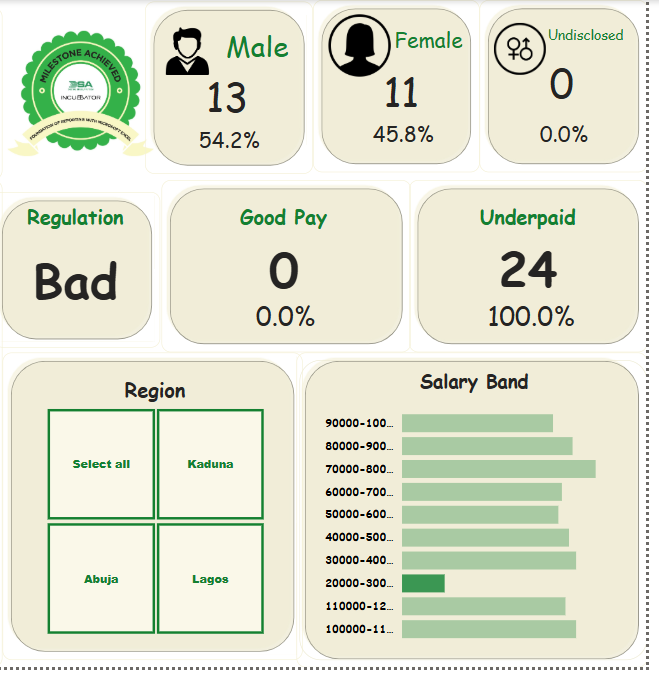

This screenshot's page, from the dashboard's own definition file:
{"tool":"powerbi","page":{"name":"🏡  Home","canvas":[1280,720],"ordinal":0},"visuals":[{"type":"shape","box":[0,8.1,278.5,712.5],"z":0},{"type":"shape","box":[278.5,8.1,306,186.2],"z":1000},{"type":"textbox","box":[289.8,53.4,283.4,152.2],"z":2000},{"type":"image","box":[0,35.6,278.5,93.9],"z":3000},{"type":"shape","box":[393.5,21,76.1,66.4],"z":4000},{"type":"shape","box":[416.1,35.6,32.4,38.9],"z":5000},{"type":"image","box":[584.5,14.6,168.4,173.3],"z":6000},{"type":"shape","box":[738.4,1.6,181.4,186.2],"z":7000},{"type":"shape","box":[919.7,0,179.7,186.2],"z":8000},{"type":"shape","box":[1099.5,0,181.4,186.2],"z":9000},{"type":"shape","box":[278.5,194.3,306,526.2],"z":10000},{"type":"shape","box":[291.5,445.3,283.4,24.3],"z":11000},{"type":"pageNavigator","box":[37.2,325.5,181.4,343.3],"z":12000},{"type":"card","title":"Male","fields":{"Values":["Palmoria Group emp-data (1).Male"]},"box":[754.6,27.5,149,108.5],"z":13000},{"type":"card","fields":{"Values":["Palmoria Group emp-data (1).% Male"]},"box":[782.1,129.5,93.9,45.3],"z":14000},{"type":"image","box":[738.4,24.3,90.7,61.5],"z":15000},{"type":"card","title":"Female","fields":{"Values":["Palmoria Group emp-data (1).Female"]},"box":[942.4,27.5,149,108.5],"z":16000},{"type":"card","fields":{"Values":["Palmoria Group emp-data (1).% Female"]},"box":[970.2,122.3,93.9,45.3],"z":17000},{"type":"image","box":[931.1,8.1,77.7,82.6],"z":18000},{"type":"card","title":"Undisclosed","fields":{"Values":["Palmoria Group emp-data (1).Undisclosed"]},"box":[1115.6,21,149,108.5],"z":19000},{"type":"card","fields":{"Values":["Palmoria Group emp-data (1).% Undisclosed"]},"box":[1143.2,123.1,93.9,45.3],"z":20000},{"type":"image","box":[1089.7,19.4,106.9,66.4],"z":21000},{"type":"barChart","title":"Employee by Region","fields":{"Category":["Palmoria Group emp-data (1).Location"],"Y":["Palmoria Group emp-data (1).Total Emp"]},"box":[286.6,205.6,293.1,239.6],"z":22000},{"type":"columnChart","title":"Employee by Deoartment","fields":{"Category":["Palmoria Group emp-data (1).Department"],"Y":["Palmoria Group emp-data (1).Total Emp"]},"box":[287.6,453.7,277.5,267.3],"z":23000},{"type":"shape","box":[581.3,194.4,338.2,263.3],"z":24000},{"type":"columnChart","title":"Job Rating","fields":{"Category":["Palmoria Group emp-data (1).Rating"],"Y":["Palmoria Group emp-data (1).Total Emp"]},"box":[597.5,204.6,334.2,263.3],"z":25000},{"type":"shape","box":[581.3,453.4,338.4,267.2],"z":26000},{"type":"shape","box":[926.2,187.8,346.5,532.7],"z":27000},{"type":"card","title":"Salary","fields":{"Values":["Sum(Palmoria Group emp-data (1).Salary)"]},"box":[931.1,194.3,341.7,197.5],"z":28000},{"type":"donutChart","title":"Salary by Gender","fields":{"Y":["Sum(Palmoria Group emp-data (1).Salary)"],"Category":["Palmoria Group emp-data (1).Gender"]},"box":[937.5,406.4,327.1,309.3],"z":29000},{"type":"shape","box":[939.2,391.9,322.2,14.6],"z":30000},{"type":"pieChart","title":" Salary by Location","fields":{"Category":["Palmoria Group emp-data (1).Location"],"Y":["Sum(Palmoria Group emp-data (1).Salary)"]},"box":[597.5,463.1,306,244.5],"z":31000},{"type":"card","title":"Total Employee","fields":{"Values":["Palmoria Group emp-data (1).Total Emp"]},"box":[36.5,206.6,208.6,131.6],"z":32000},{"type":"shape","box":[9.7,187.8,260.7,17.8],"z":33000}]}

Visuals, with their boxes on the page's 1280x720 design canvas (x1, y1, x2, y2). These are canvas units, not pixel positions in the 659x679 screenshot, which may show the page scaled, cropped or inside an application window:
shape: [0,8,278,721]
shape: [278,8,584,194]
textbox: [290,53,573,206]
image: [0,36,278,130]
shape: [394,21,470,87]
shape: [416,36,448,74]
image: [584,15,753,188]
shape: [738,2,920,188]
shape: [920,0,1099,186]
shape: [1100,0,1281,186]
shape: [278,194,584,720]
shape: [292,445,575,470]
pageNavigator: [37,326,219,669]
"Male" card: [755,28,904,136]
card - Palmoria Group emp-data (1).% Male: [782,130,876,175]
image: [738,24,829,86]
"Female" card: [942,28,1091,136]
card - Palmoria Group emp-data (1).% Female: [970,122,1064,168]
image: [931,8,1009,91]
"Undisclosed" card: [1116,21,1265,130]
card - Palmoria Group emp-data (1).% Undisclosed: [1143,123,1237,168]
image: [1090,19,1197,86]
"Employee by Region" barChart: [287,206,580,445]
"Employee by Deoartment" columnChart: [288,454,565,721]
shape: [581,194,920,458]
"Job Rating" columnChart: [598,205,932,468]
shape: [581,453,920,721]
shape: [926,188,1273,720]
"Salary" card: [931,194,1273,392]
"Salary by Gender" donutChart: [938,406,1265,716]
shape: [939,392,1261,406]
" Salary by Location" pieChart: [598,463,904,708]
"Total Employee" card: [36,207,245,338]
shape: [10,188,270,206]
